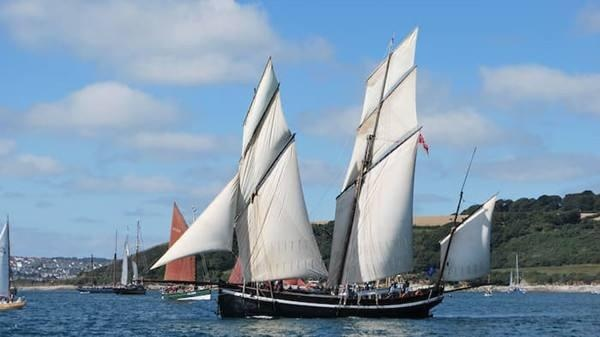fanchuan: (212, 25, 463, 318)
